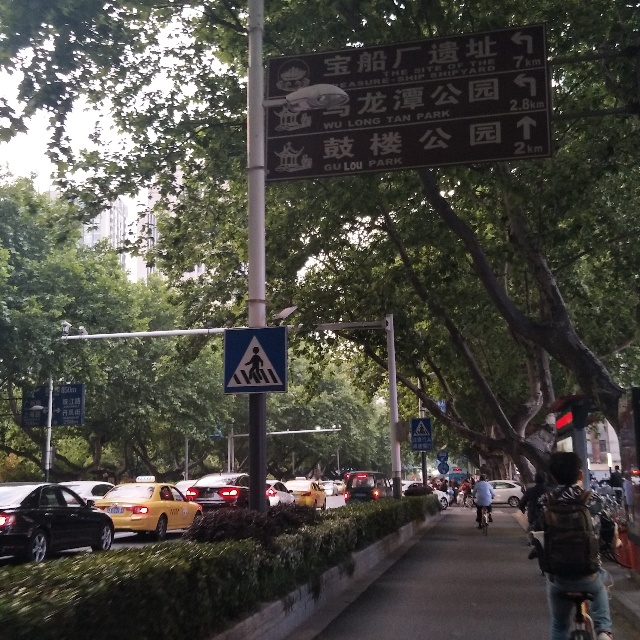crosswalk: (228, 332, 281, 391)
